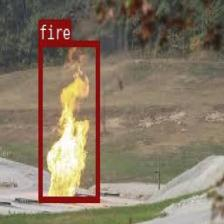fire: (38, 40, 99, 201)
